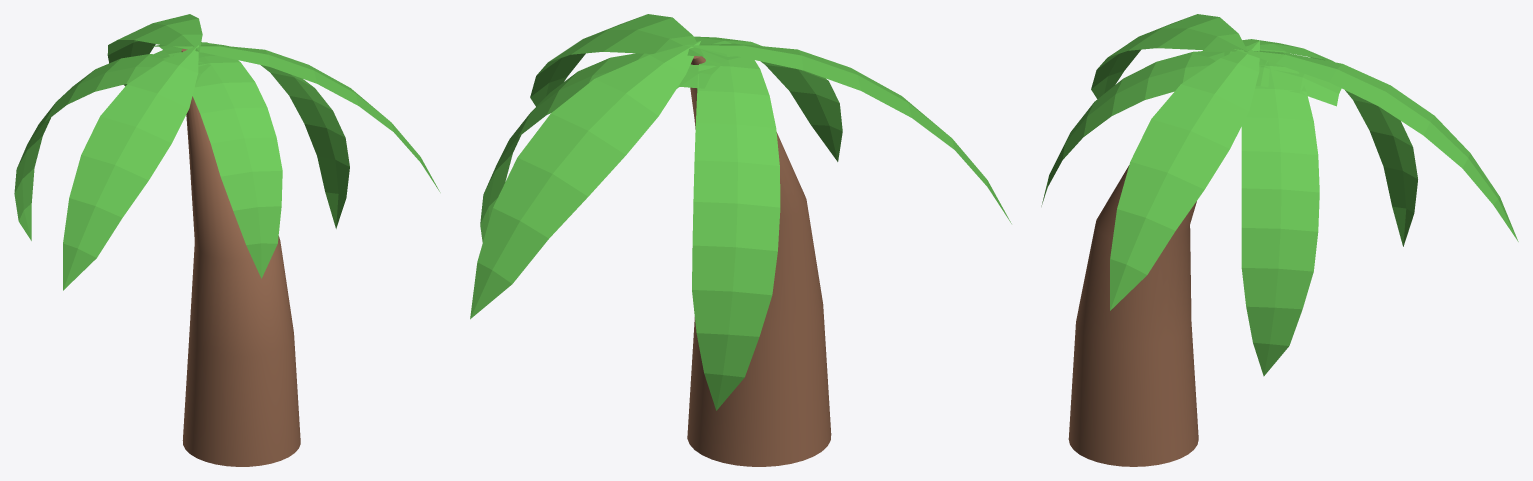
File: ヤシの木.fbx
The picture shows the model from 3 angles, left to right: view 1: azimuth 30°, elevation 25°; view 2: azimuth 150°, elevation 25°; view 3: azimuth 270°, elevation 25°; orthographic projection. The views are drawn at different scales.
Visible parts, largest first — view 1: 円柱, 球.004, 球.002, 球, 球.001, 球.003, 球.005; view 2: 球.001, 円柱, 球.005, 球.003, 球.004, 球.002, 球; view 3: 円柱, 球, 球.003, 球.005, 球.002, 球.001, 球.004.
Boxes of the visible parts, bbox=[...] form: 円柱: bbox=[181, 49, 300, 466]; 球.004: bbox=[63, 45, 198, 290]; 球.002: bbox=[152, 42, 282, 278]; 球: bbox=[149, 42, 349, 228]; 球.001: bbox=[14, 54, 210, 240]; 球.003: bbox=[173, 45, 440, 192]; 球.005: bbox=[107, 14, 202, 86]; 球.001: bbox=[692, 48, 780, 410]; 円柱: bbox=[687, 56, 831, 466]; 球.005: bbox=[470, 41, 700, 319]; 球.003: bbox=[530, 14, 703, 106]; 球.004: bbox=[685, 43, 1011, 223]; 球.002: bbox=[645, 36, 842, 161]; 球: bbox=[480, 53, 721, 242]; 円柱: bbox=[1068, 165, 1198, 466]; 球: bbox=[1241, 49, 1319, 376]; 球.003: bbox=[1110, 41, 1259, 310]; 球.005: bbox=[1234, 49, 1518, 241]; 球.002: bbox=[1041, 50, 1341, 206]; 球.001: bbox=[1195, 39, 1417, 246]; 球.004: bbox=[1091, 14, 1248, 98].
Size of the model in its own units: 233 by 208 by 229.
